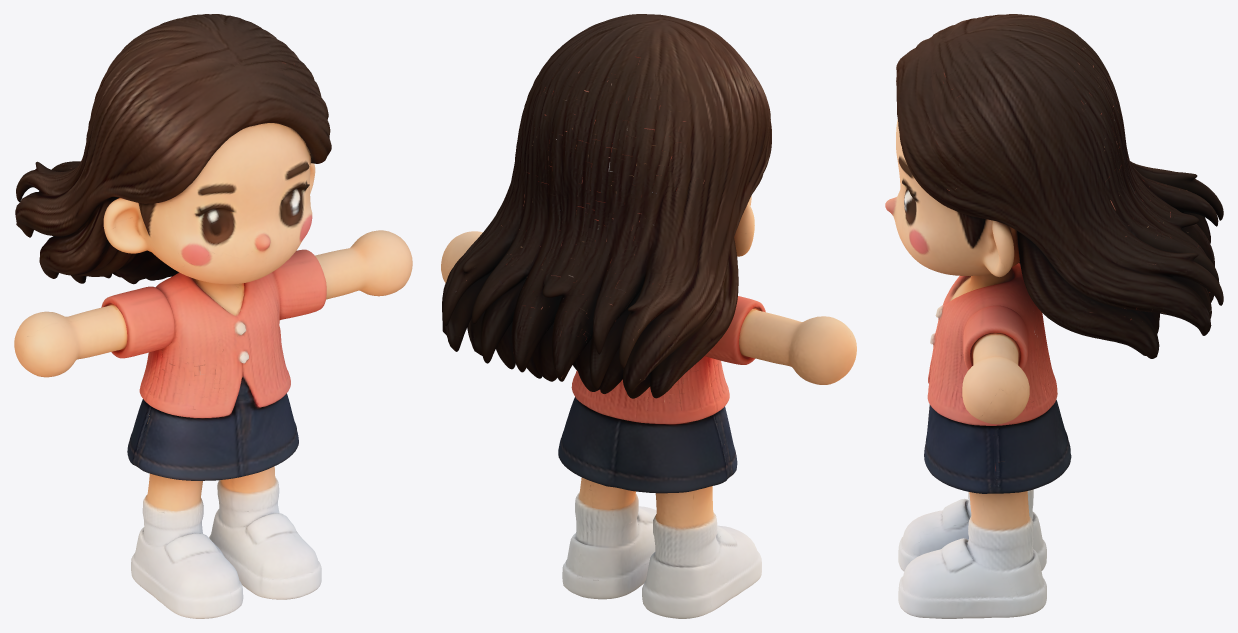
Rendered from lod_basic_shaded.fbx.
3 renders of one model, left to right at view 1: azimuth 30°, elevation 25°; view 2: azimuth 150°, elevation 25°; view 3: azimuth 270°, elevation 25°, orthographic. The views are drawn at different scales.
Parts seen in each view (by area): view 1: model_LOD0; view 2: model_LOD0; view 3: model_LOD0.
Part boxes in pixels (x1,y1,x2,y2): model_LOD0: (14,14,412,618); model_LOD0: (441,14,856,618); model_LOD0: (885,14,1223,618).
Size of what is drawn, in the model's own units: 142 by 190 by 104.
